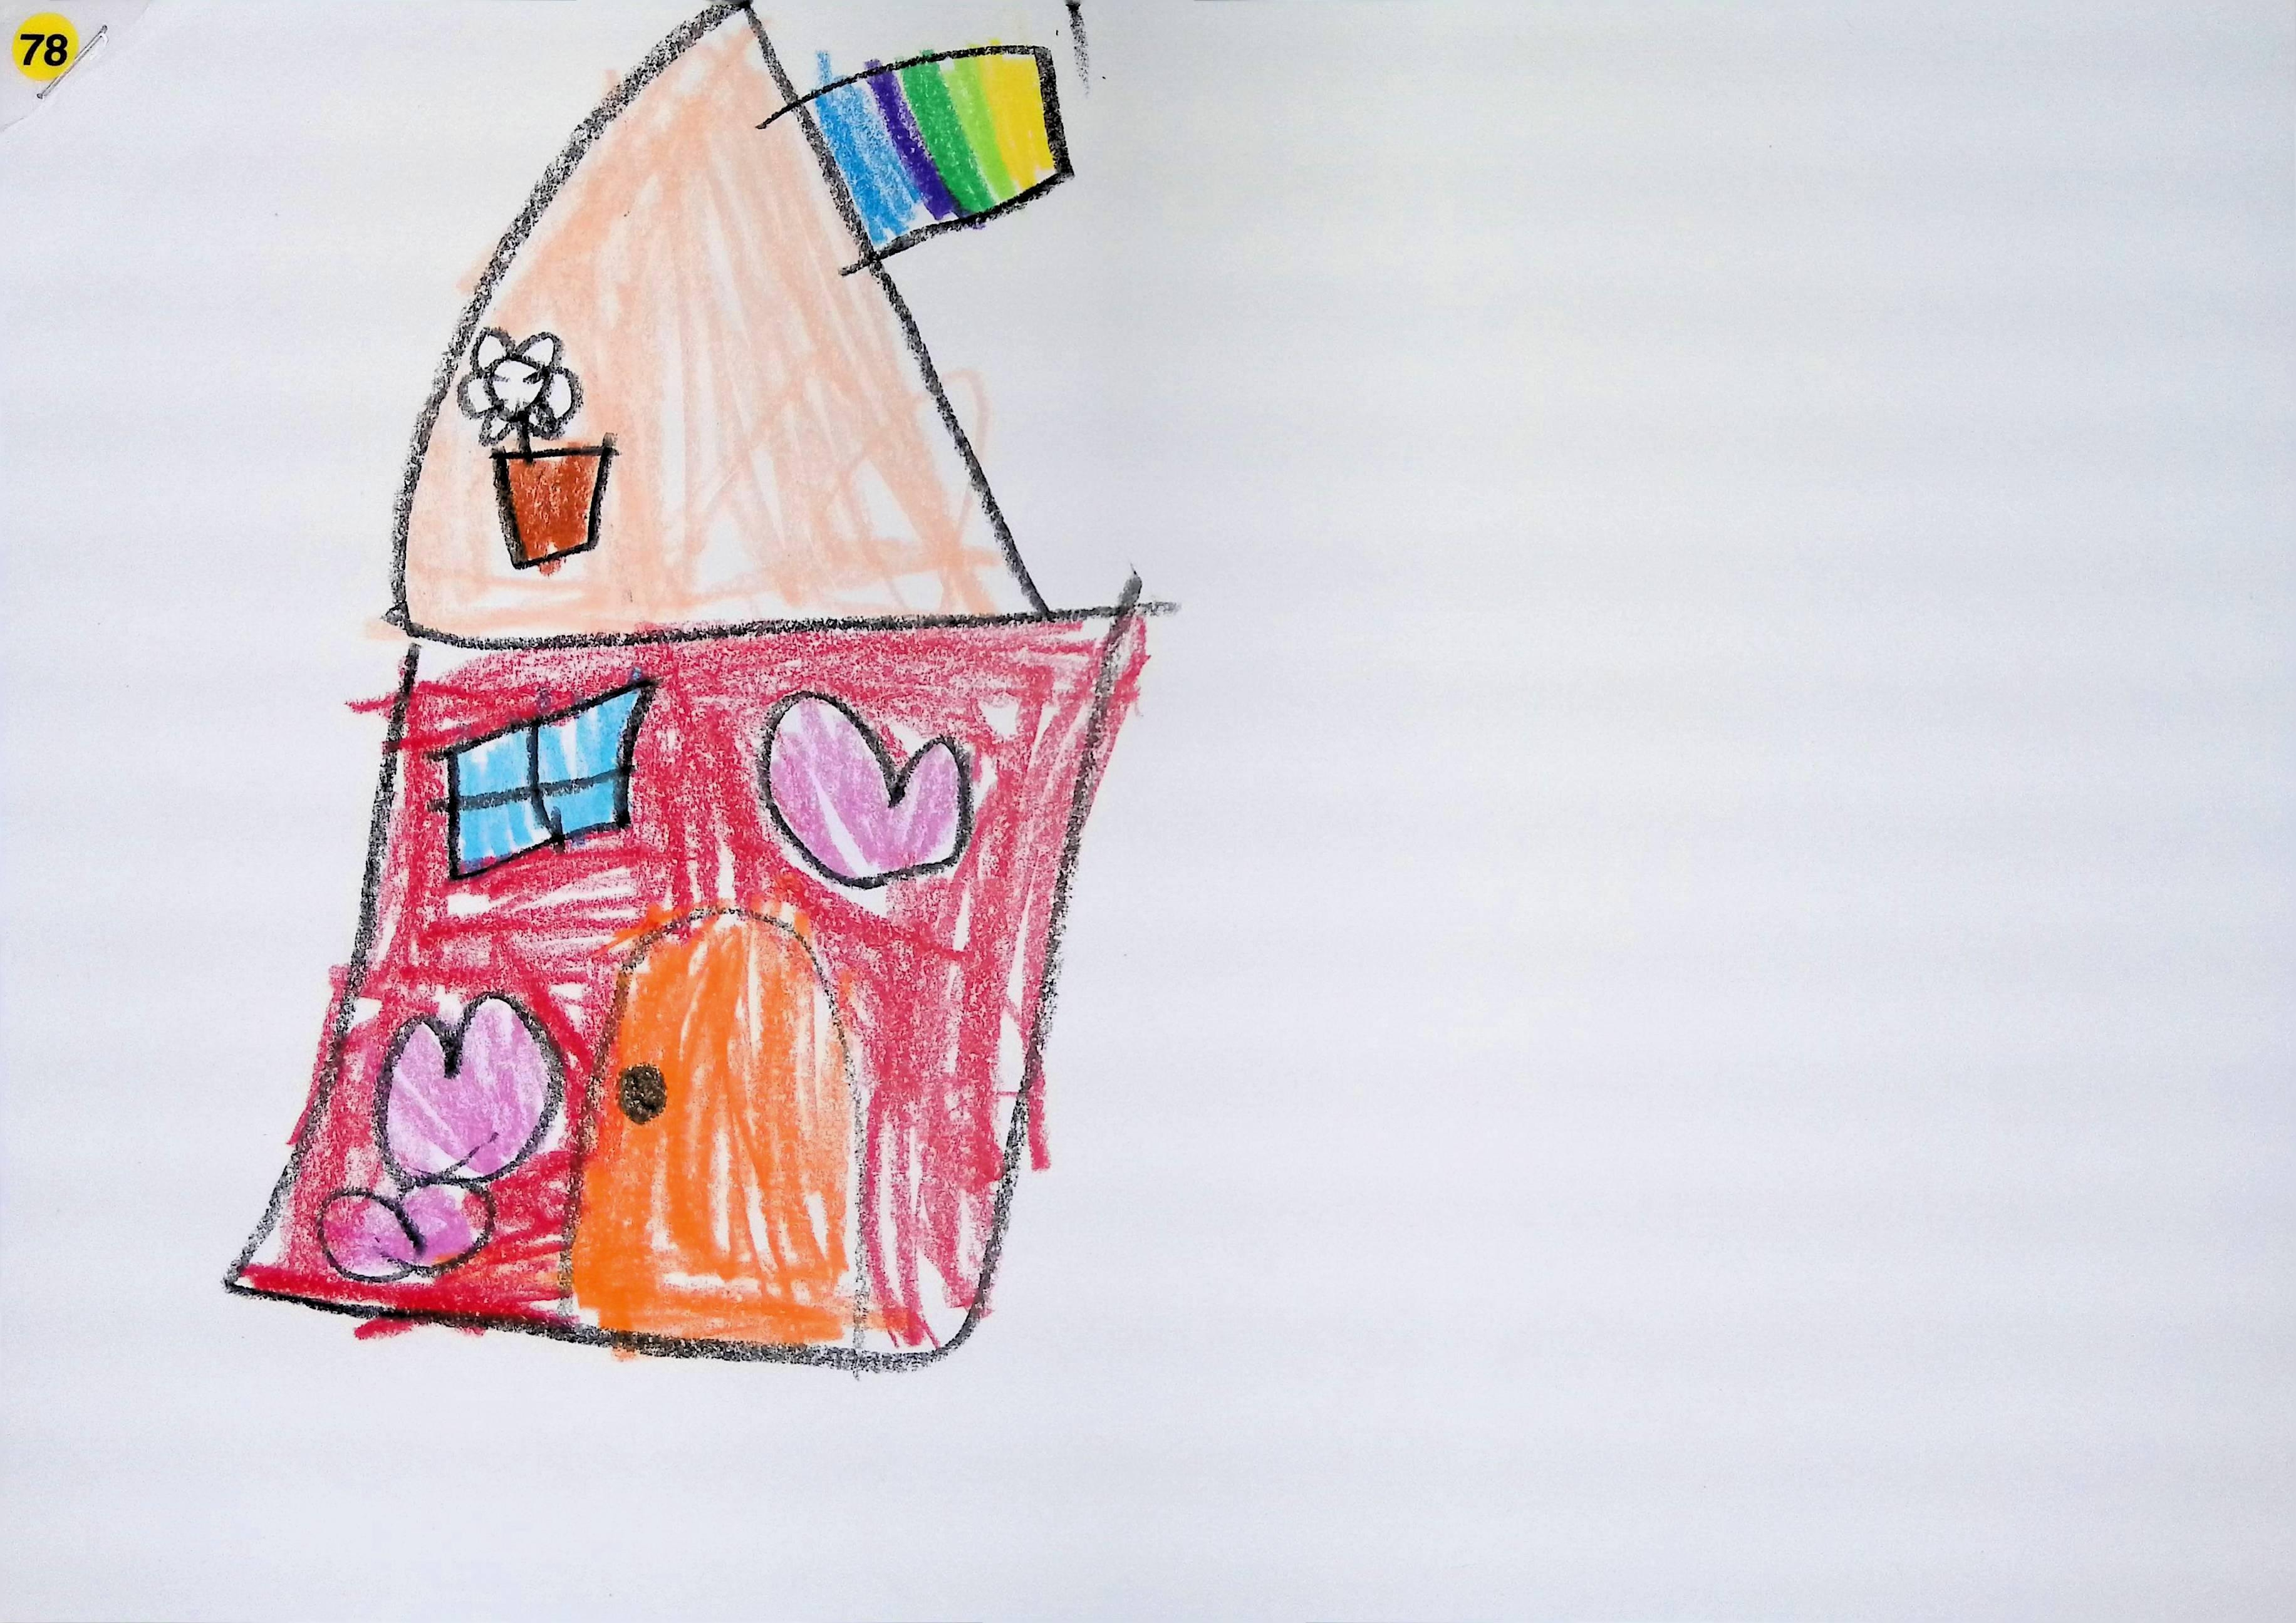chimney: (764, 41, 1070, 253)
door: (569, 910, 854, 1346)
house: (227, 0, 1153, 1365)
roof: (398, 6, 1036, 639)
wall: (230, 594, 1145, 1362)
window: (445, 682, 650, 875)
